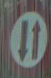Two way: (12, 7, 47, 72)
